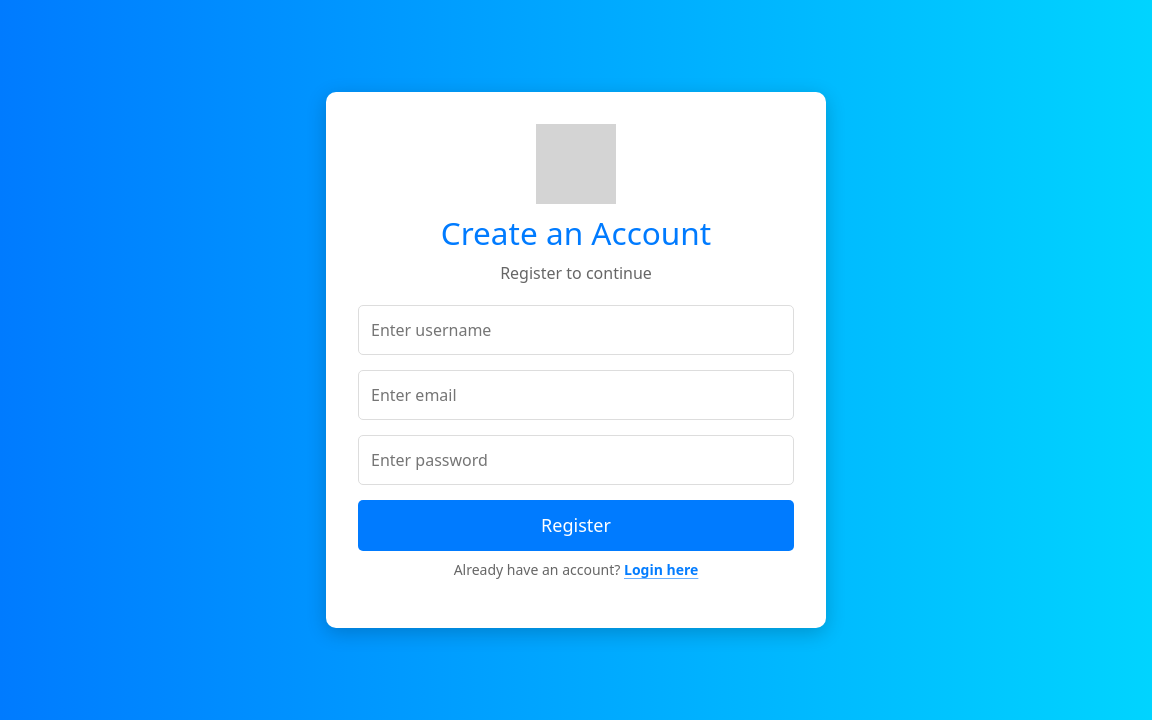
Authentication Tests › should display validation errors on empty form submission
Click the submit button at (576,526), box x1=358 y1=500 x2=794 y2=551
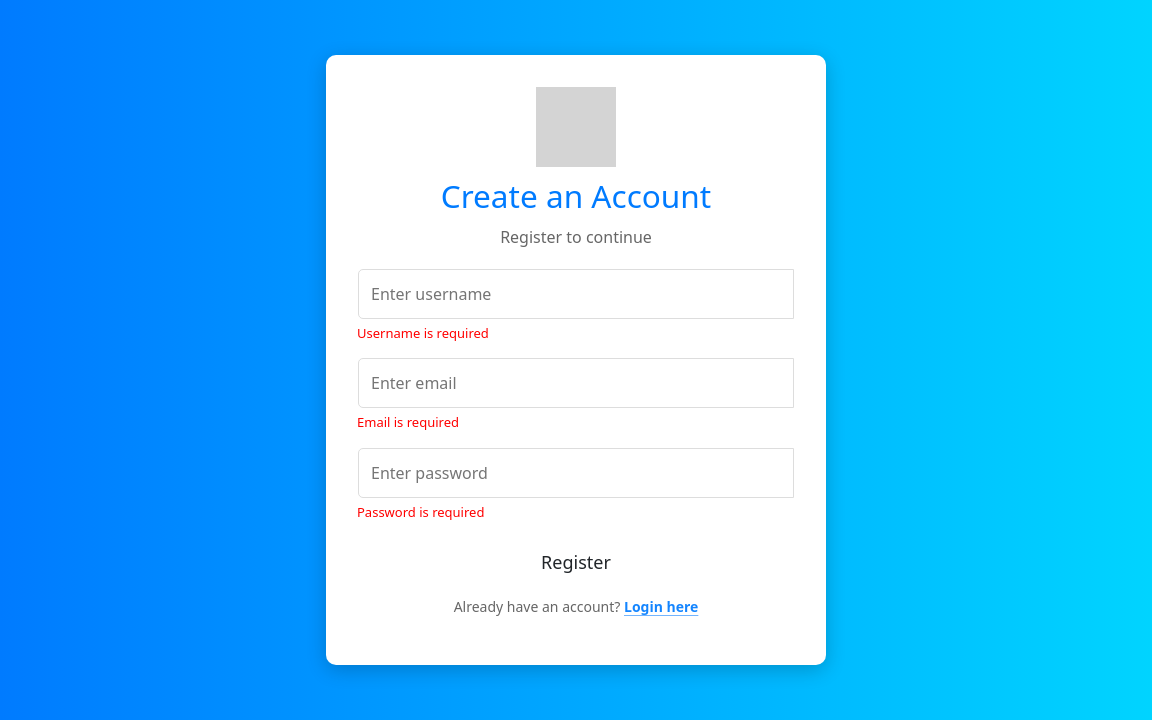
expect the text "Username is required" is shown: met, box x1=357 y1=324 x2=489 y2=343
expect the text "Email is required" is shown: met, box x1=357 y1=413 x2=459 y2=433
expect the text "Password is required" is shown: met, box x1=357 y1=503 x2=484 y2=522
